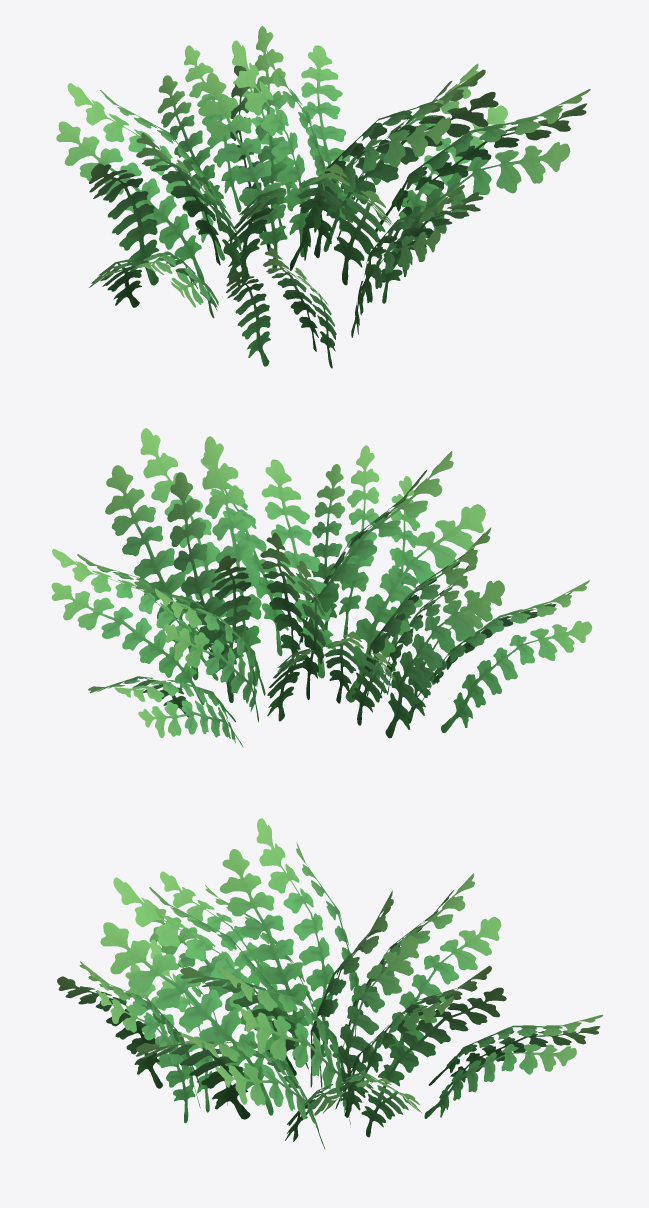
The model's file is SM_ENV_plant_ancient_01_01.fbx.
3 renders of one model, top to bottom at view 1: azimuth 30°, elevation 25°; view 2: azimuth 150°, elevation 25°; view 3: azimuth 270°, elevation 25°, orthographic. The views are drawn at different scales.
Parts seen in each view (by area): view 1: SM_ENV_plant_ancient_01_01_LOD0; view 2: SM_ENV_plant_ancient_01_01_LOD0; view 3: SM_ENV_plant_ancient_01_01_LOD0.
Part boxes in pixels (<box>): SM_ENV_plant_ancient_01_01_LOD0: <box>56,26,590,368</box>; SM_ENV_plant_ancient_01_01_LOD0: <box>51,428,592,747</box>; SM_ENV_plant_ancient_01_01_LOD0: <box>57,818,603,1149</box>.
Bounding box in the file's own units: 129 × 57.37 × 123.
